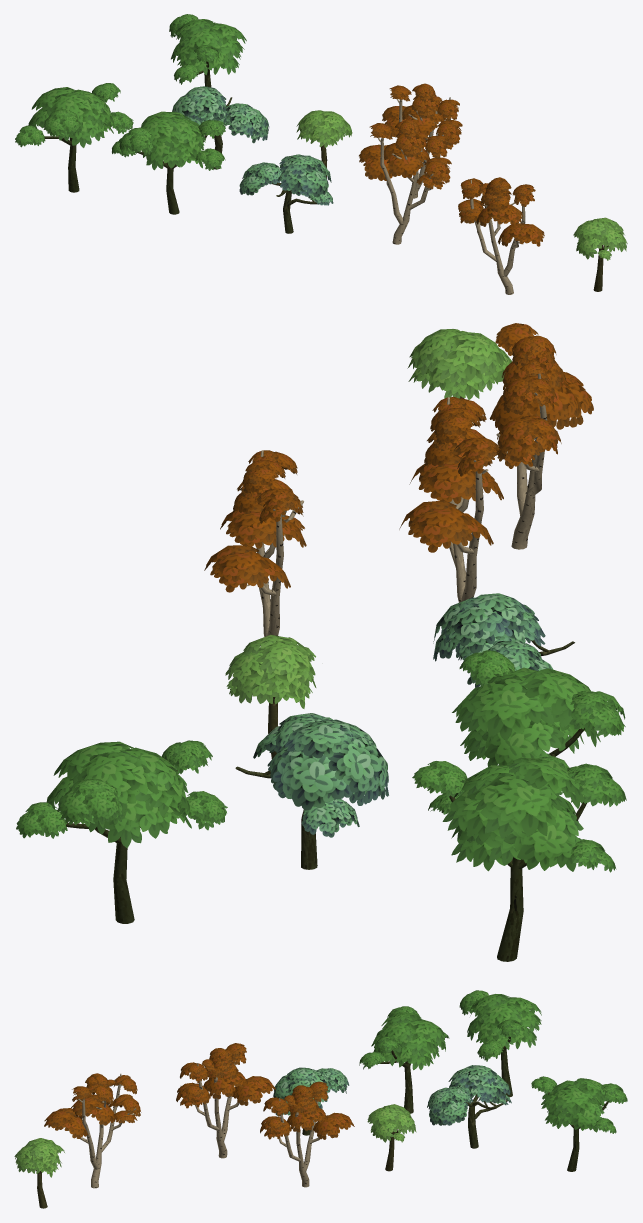
The model's file is overworld-0-4.gltf.
3 renders of one model, top to bottom at view 1: azimuth 30°, elevation 25°; view 2: azimuth 150°, elevation 25°; view 3: azimuth 270°, elevation 25°, orthographic. The views are drawn at different scales.
Parts seen in each view (by area): view 1: cf73d73e4a52b629e942c4cf3ba67a960257f3fda86af0eadf8051aa3c1f (×3), 133dae8ce562dbc4cbf0d0d2cb7dc4cb2baafed83b6c58ebd4446a365708 (×3), 629e78b439d8b314fb62411e16a47eeeaf0f6f78bb3f3150468167c9e9d3 (×2), 8480a643e36c0194bf11e79cbc019e38e5ff72b8bc295b144212e5f7a5b3 (×2); view 2: cf73d73e4a52b629e942c4cf3ba67a960257f3fda86af0eadf8051aa3c1f (×3), 133dae8ce562dbc4cbf0d0d2cb7dc4cb2baafed83b6c58ebd4446a365708 (×3), 629e78b439d8b314fb62411e16a47eeeaf0f6f78bb3f3150468167c9e9d3 (×2), 8480a643e36c0194bf11e79cbc019e38e5ff72b8bc295b144212e5f7a5b3 (×2); view 3: 133dae8ce562dbc4cbf0d0d2cb7dc4cb2baafed83b6c58ebd4446a365708 (×3), cf73d73e4a52b629e942c4cf3ba67a960257f3fda86af0eadf8051aa3c1f (×3), 629e78b439d8b314fb62411e16a47eeeaf0f6f78bb3f3150468167c9e9d3 (×2), 8480a643e36c0194bf11e79cbc019e38e5ff72b8bc295b144212e5f7a5b3 (×2).
Part boxes in pixels (x1,y1,x2,y2): cf73d73e4a52b629e942c4cf3ba67a960257f3fda86af0eadf8051aa3c1f (×3): [15, 14, 246, 214]; 133dae8ce562dbc4cbf0d0d2cb7dc4cb2baafed83b6c58ebd4446a365708 (×3): [359, 83, 544, 294]; 629e78b439d8b314fb62411e16a47eeeaf0f6f78bb3f3150468167c9e9d3 (×2): [172, 86, 333, 233]; 8480a643e36c0194bf11e79cbc019e38e5ff72b8bc295b144212e5f7a5b3 (×2): [296, 110, 627, 291]; cf73d73e4a52b629e942c4cf3ba67a960257f3fda86af0eadf8051aa3c1f (×3): [16, 650, 626, 961]; 133dae8ce562dbc4cbf0d0d2cb7dc4cb2baafed83b6c58ebd4446a365708 (×3): [204, 323, 593, 636]; 629e78b439d8b314fb62411e16a47eeeaf0f6f78bb3f3150468167c9e9d3 (×2): [235, 593, 574, 869]; 8480a643e36c0194bf11e79cbc019e38e5ff72b8bc295b144212e5f7a5b3 (×2): [225, 329, 511, 758]; 133dae8ce562dbc4cbf0d0d2cb7dc4cb2baafed83b6c58ebd4446a365708 (×3): [44, 1043, 354, 1188]; cf73d73e4a52b629e942c4cf3ba67a960257f3fda86af0eadf8051aa3c1f (×3): [359, 990, 627, 1171]; 629e78b439d8b314fb62411e16a47eeeaf0f6f78bb3f3150468167c9e9d3 (×2): [273, 1065, 511, 1148]; 8480a643e36c0194bf11e79cbc019e38e5ff72b8bc295b144212e5f7a5b3 (×2): [14, 1104, 416, 1208].
Bounding box in the file's own units: 23.43 × 8.58 × 37.2.
Materials: 8 (8 with a texture image).
